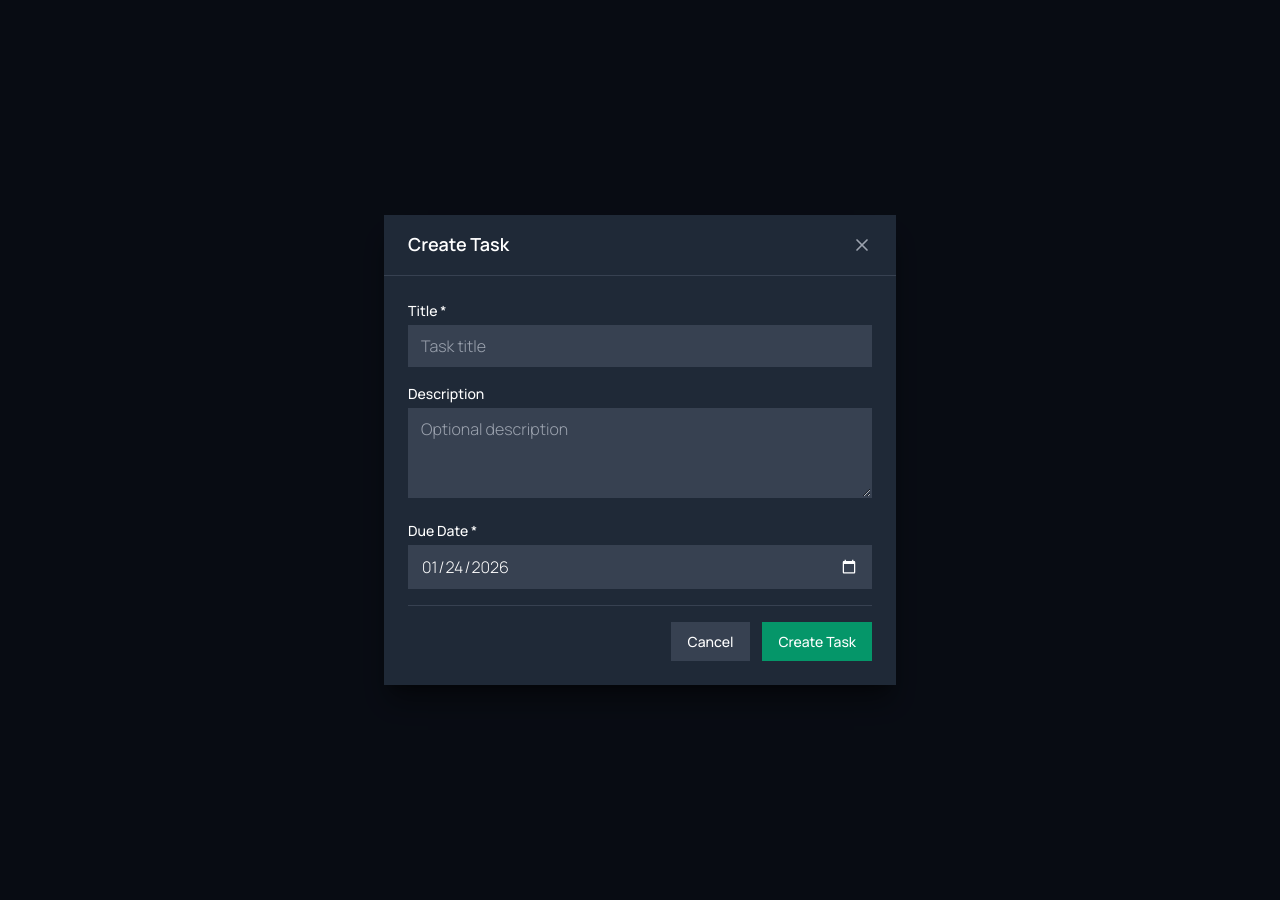
Test: CreateTaskModal › form submission › shows error message on failure
Type "Test Task" into the field with placeholder "Task title".
click(640, 346); type("Test Task")  # box [408,325,872,367]
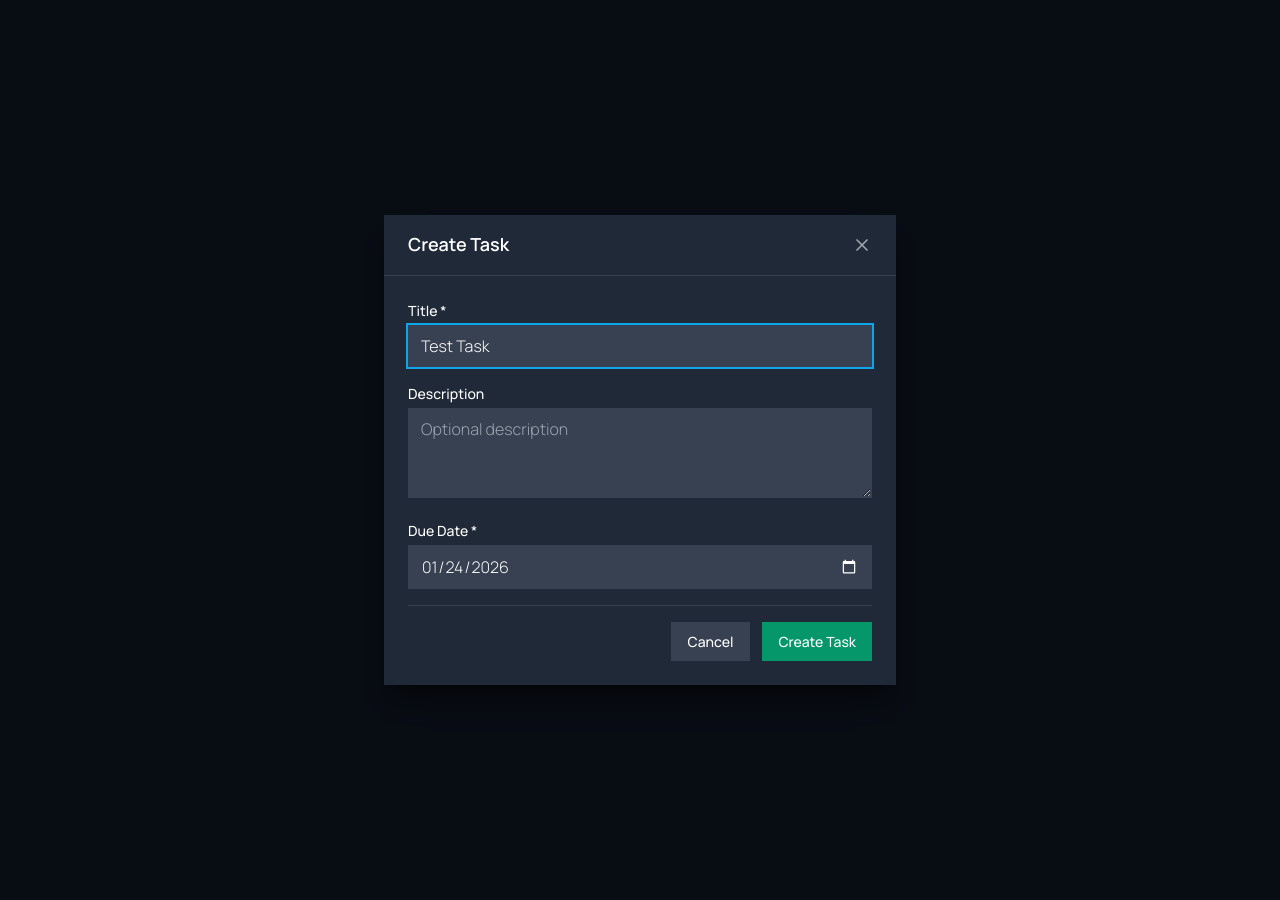
Click the button "Create Task".
click(817, 642)  # box [762,622,872,661]
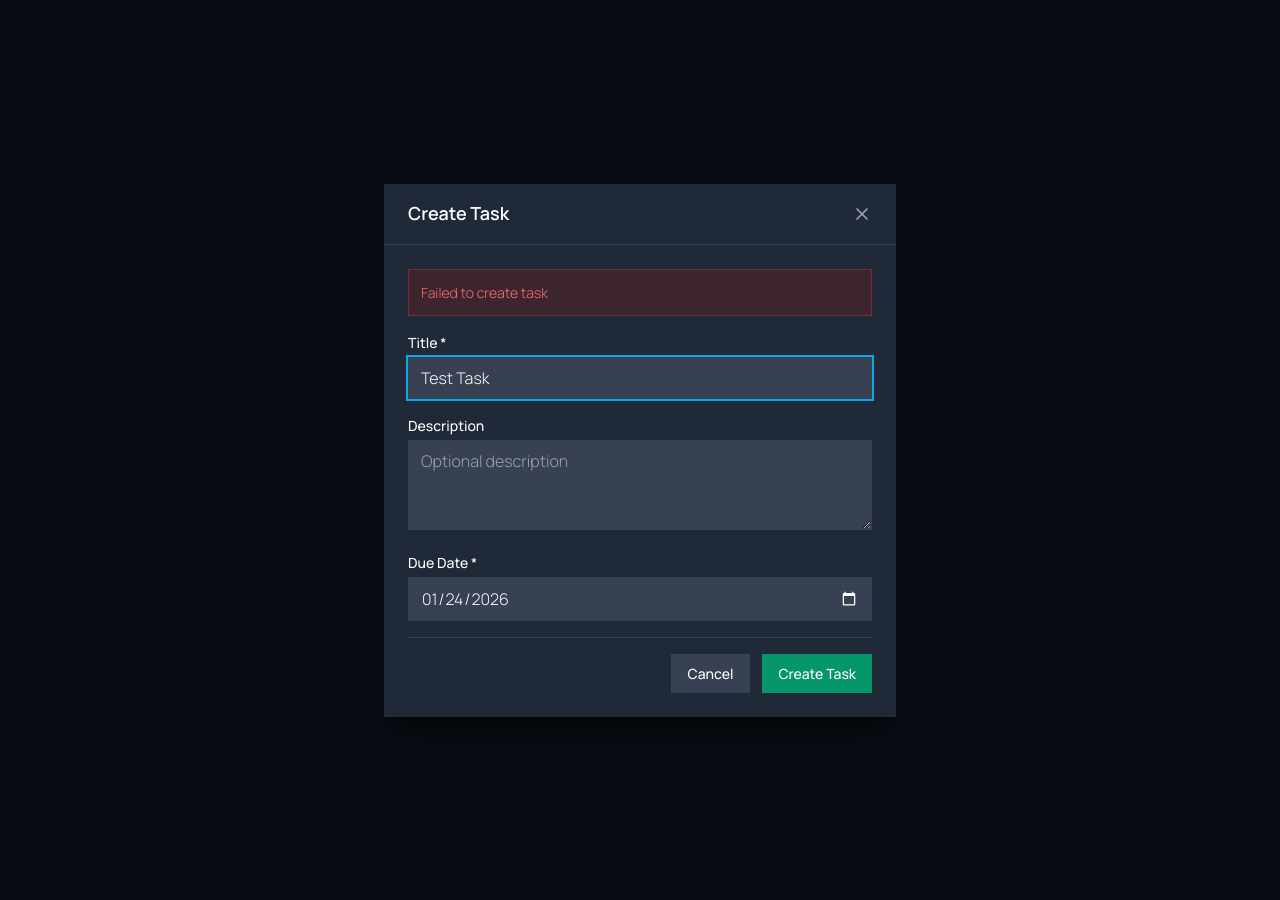
Result: the text "Failed to create task" is shown at [408,268,872,316]
